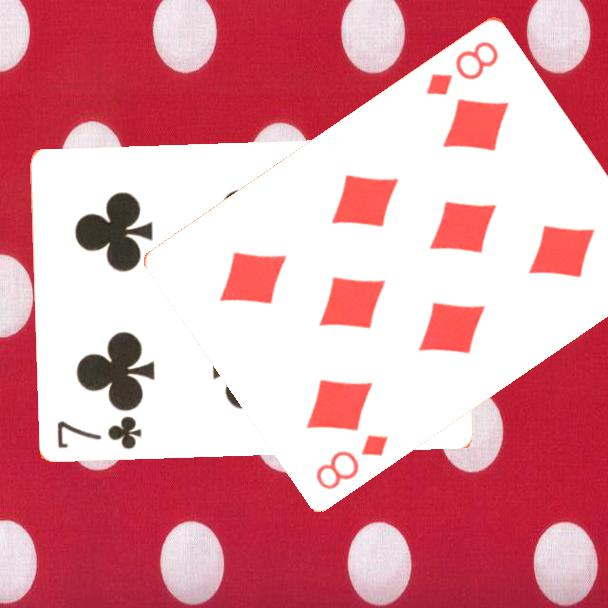c07: (54, 412, 145, 452)
d08: (311, 430, 392, 492), (422, 36, 502, 98)
